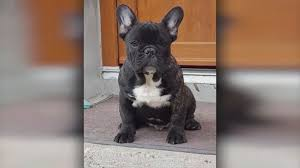Bulldog: (101, 3, 209, 151)
